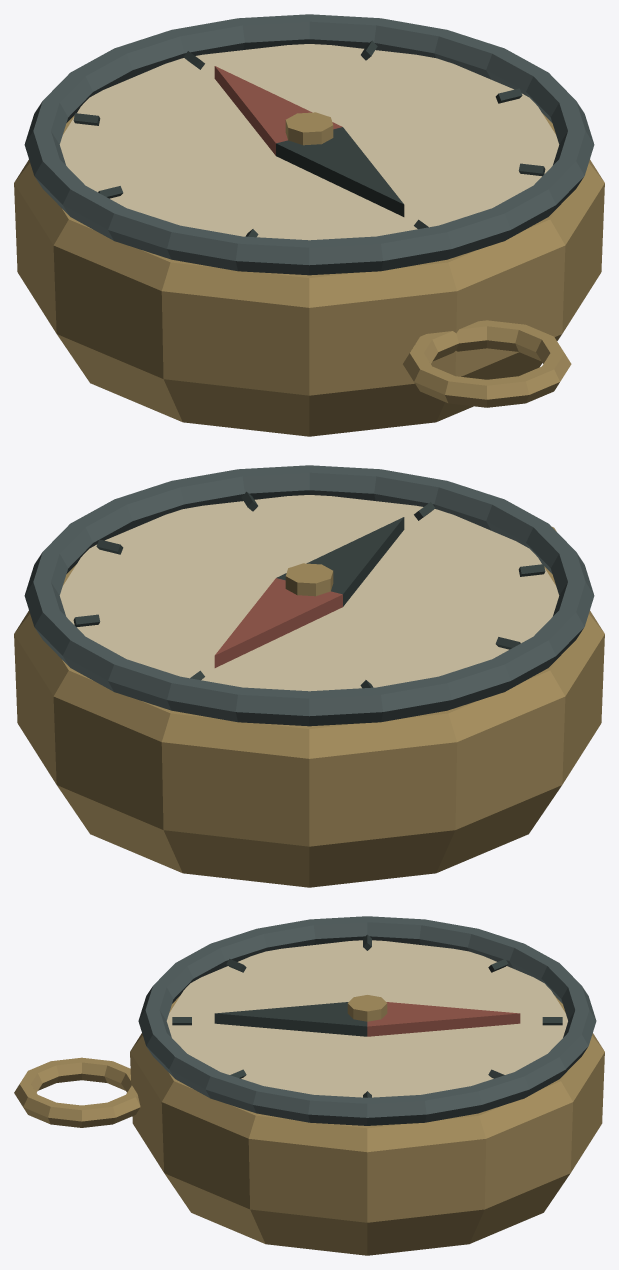
Rendered from SWP_MarinerCompass.fbx.
The picture shows the model from 3 angles, top to bottom: view 1: azimuth 30°, elevation 25°; view 2: azimuth 150°, elevation 25°; view 3: azimuth 270°, elevation 25°; orthographic projection. The views are drawn at different scales.
Parts seen in each view (by area): view 1: SWP_MarinerCompass; view 2: SWP_MarinerCompass; view 3: SWP_MarinerCompass.
Part boxes in pixels (x1,y1,x2,y2): SWP_MarinerCompass: (14, 14, 604, 436); SWP_MarinerCompass: (14, 465, 604, 887); SWP_MarinerCompass: (14, 916, 604, 1255).
Size of the model in its own units: 0.168 by 0.065 by 0.209.
